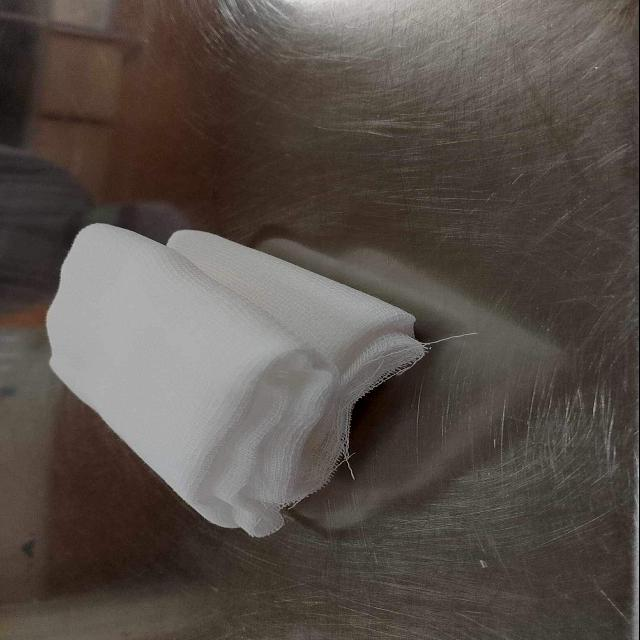General: (44, 219, 434, 540)
Sharps: (422, 330, 480, 352)
